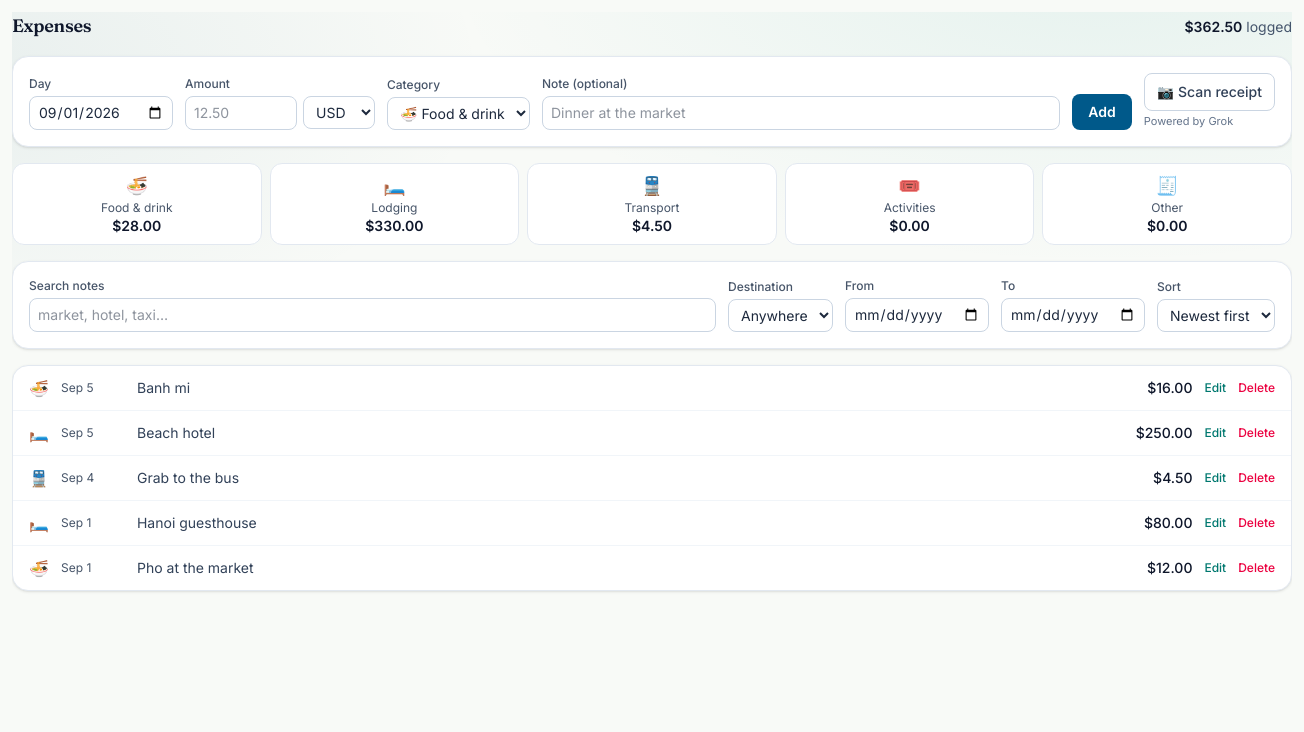
Test: filtering the expense list › uses the breakdown tiles as the category filter
The width and height of the screenshot is (1304, 732).
Click the button "🛏️ Lodging $330.00".
click(394, 204)  # box x1=270 y1=162 x2=519 y2=244
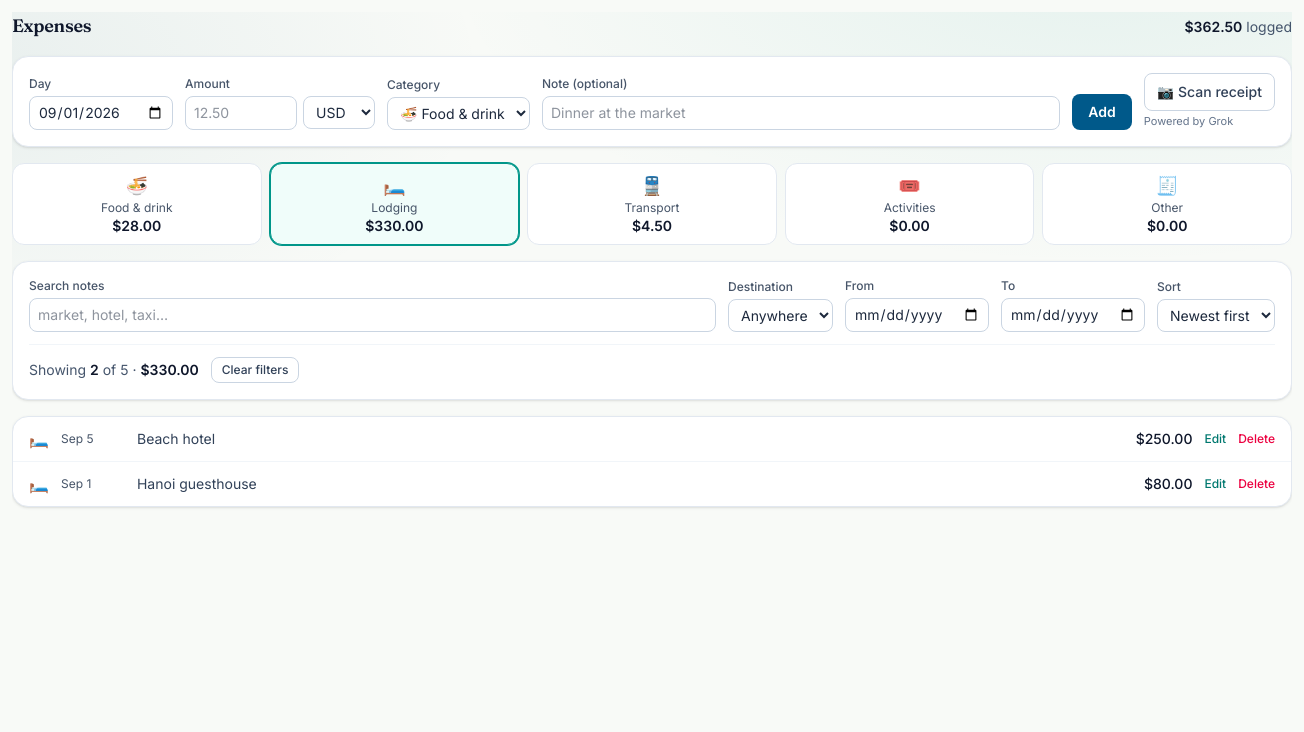
Now the message reads "Showing 2 of 5 · $330.00", box x1=29 y1=360 x2=199 y2=380
